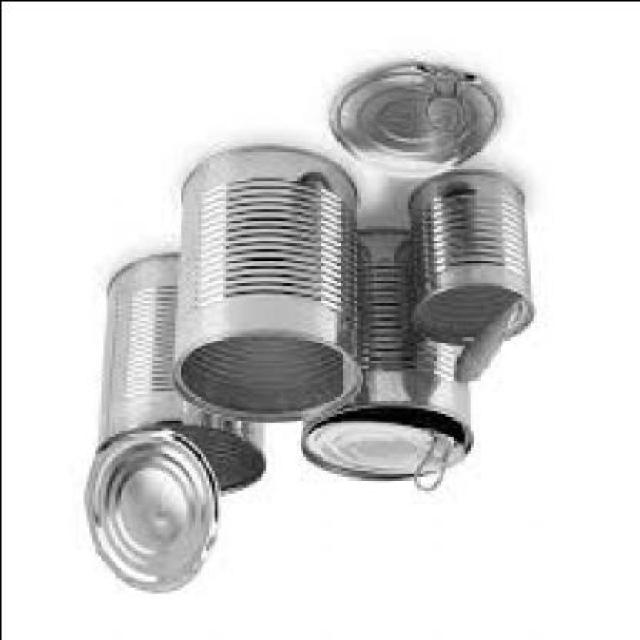METAL: (171, 145, 358, 424), (299, 231, 466, 483), (100, 253, 265, 498), (321, 62, 501, 180), (82, 432, 213, 594), (407, 168, 524, 348), (301, 424, 464, 491), (449, 298, 523, 388)
